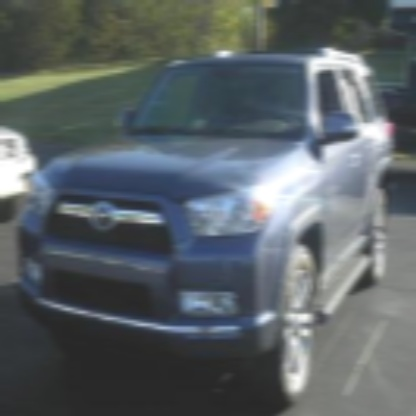Vehicle: (14, 57, 393, 401)
